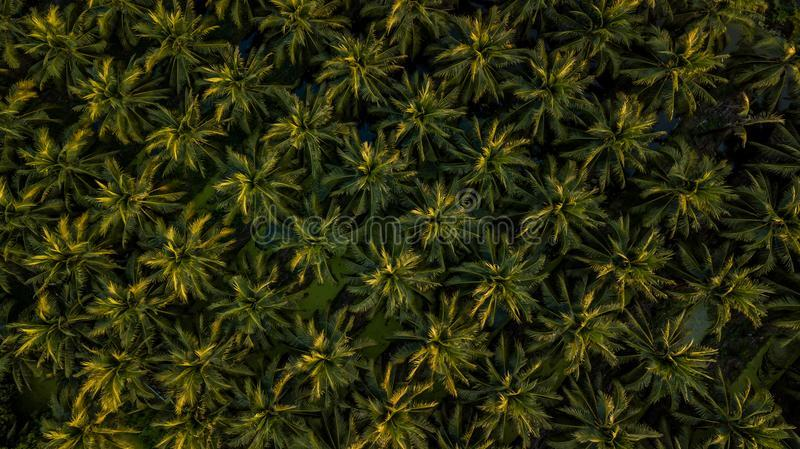coconut_tree: (316, 31, 410, 104), (193, 48, 287, 121), (682, 258, 776, 331), (631, 147, 725, 220), (627, 30, 721, 103), (680, 256, 774, 329), (693, 375, 787, 448), (218, 375, 312, 448), (344, 375, 438, 448), (379, 80, 473, 153), (521, 170, 615, 243), (446, 124, 540, 197), (216, 373, 310, 446), (15, 295, 109, 368), (148, 327, 242, 400), (254, 0, 348, 72), (110, 0, 204, 72), (143, 220, 226, 295), (395, 308, 478, 383), (457, 246, 540, 321), (348, 237, 431, 312), (209, 144, 292, 219), (61, 53, 144, 128), (27, 216, 110, 291), (79, 340, 162, 415), (576, 105, 659, 180), (275, 317, 358, 392), (344, 135, 427, 210), (271, 88, 354, 163), (142, 93, 225, 168), (16, 131, 99, 206), (464, 363, 547, 438), (626, 323, 709, 398), (546, 292, 629, 367), (589, 225, 672, 300), (440, 16, 523, 91), (517, 48, 600, 123), (733, 174, 799, 265), (744, 35, 799, 103)
